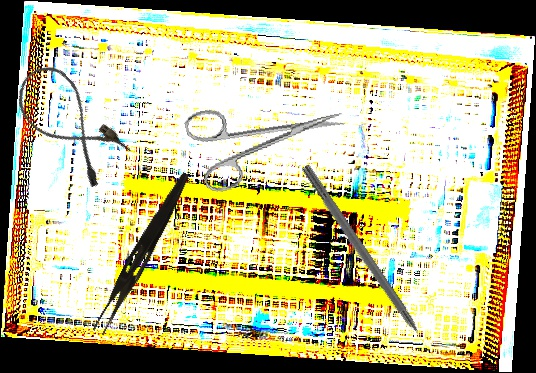Cannula: (5, 56, 135, 191)
Dressing Forceps: (91, 167, 193, 339)
Hook Surgical: (298, 163, 438, 360)
Iris Scissors: (182, 80, 354, 197)
